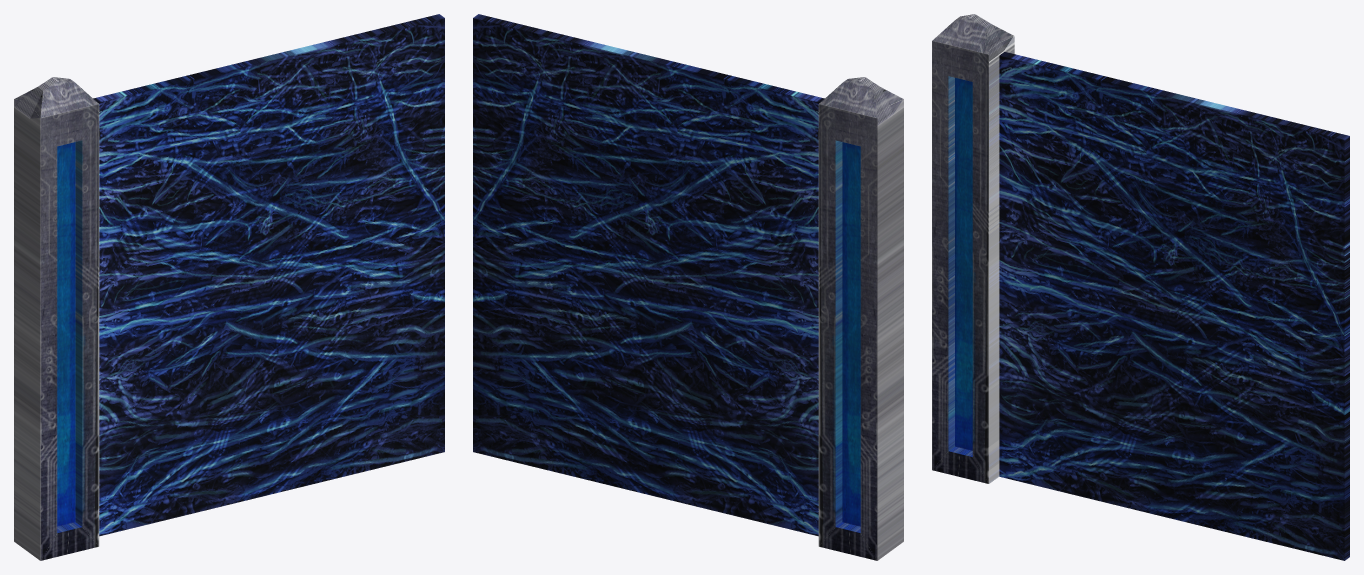
File: kabe.fbx
3 renders of one model, left to right at view 1: azimuth 30°, elevation 25°; view 2: azimuth 150°, elevation 25°; view 3: azimuth 330°, elevation 25°, orthographic. The views are drawn at different scales.
Parts seen in each view (by area): view 1: pCube10; view 2: pCube10; view 3: pCube10.
Boxes of the visible parts, <box> form: pCube10: <box>14,14,444,560</box>; pCube10: <box>473,14,903,560</box>; pCube10: <box>932,14,1349,560</box>.
Size of the model in its own units: 37.65 by 40.38 by 4.14.
1 material, 1 textured.
